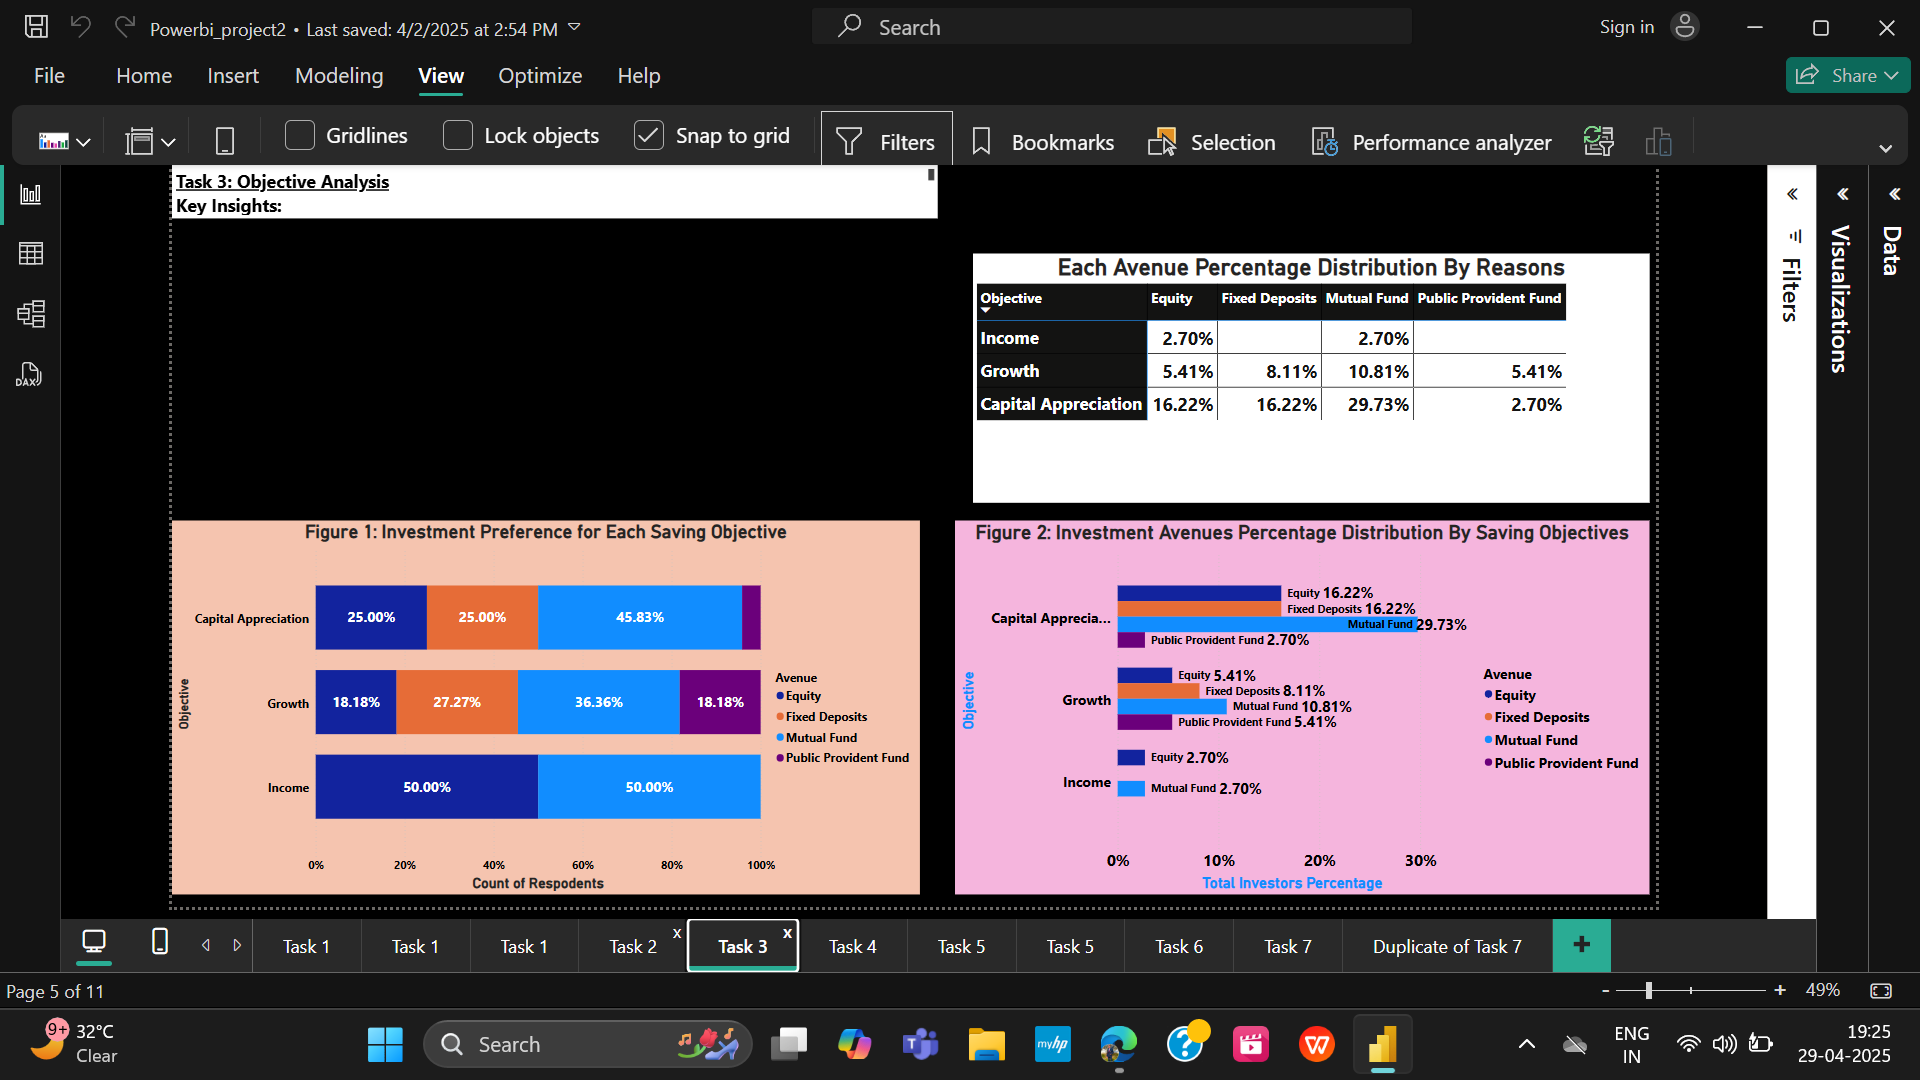

What the dashboard file says about the page in this screenshot:
{"tool":"powerbi","page":{"name":"Task 3","canvas":[2000,1000],"ordinal":4},"visuals":[{"type":"clusteredBarChart","title":"Figure 2: Investment Avenues Percentage Distribution By Saving Objectives","fields":{"Category":["Data_set 2.Objective"],"Y":["CountNonNull(Data_set 2.Avenue)"],"Series":["Data_set 2.Avenue"]},"box":[1056,480,936,504],"z":0},{"type":"hundredPercentStackedBarChart","title":"Figure 1: Investment Preference for Each Saving Objective","fields":{"Y":["CountNonNull(Data_set 2.gender)"],"Category":["Data_set 2.Objective"],"Series":["Data_set 2.Avenue"]},"box":[0,480,1008,504],"z":1000},{"type":"pivotTable","title":"Each Avenue Percentage Distribution By Reasons","fields":{"Rows":["Data_set 2.Objective"],"Columns":["Data_set 2.Avenue"],"Values":["Min(Data_set 2.Avenue)"]},"box":[1080,120,912,336],"z":2000},{"type":"textbox","box":[0,0,1032,72],"z":3000}]}

Visuals, with their boxes on the page's 2000x1000 design canvas (x1, y1, x2, y2). These are canvas units, not pixel positions in the 1920x1080 screenshot, which may show the page scaled, cropped or inside an application window:
"Figure 2: Investment Avenues Percentage Distribution By Saving Objectives" clusteredBarChart: 1056, 480, 1992, 984
"Figure 1: Investment Preference for Each Saving Objective" hundredPercentStackedBarChart: 0, 480, 1008, 984
"Each Avenue Percentage Distribution By Reasons" pivotTable: 1080, 120, 1992, 456
textbox: 0, 0, 1032, 72
